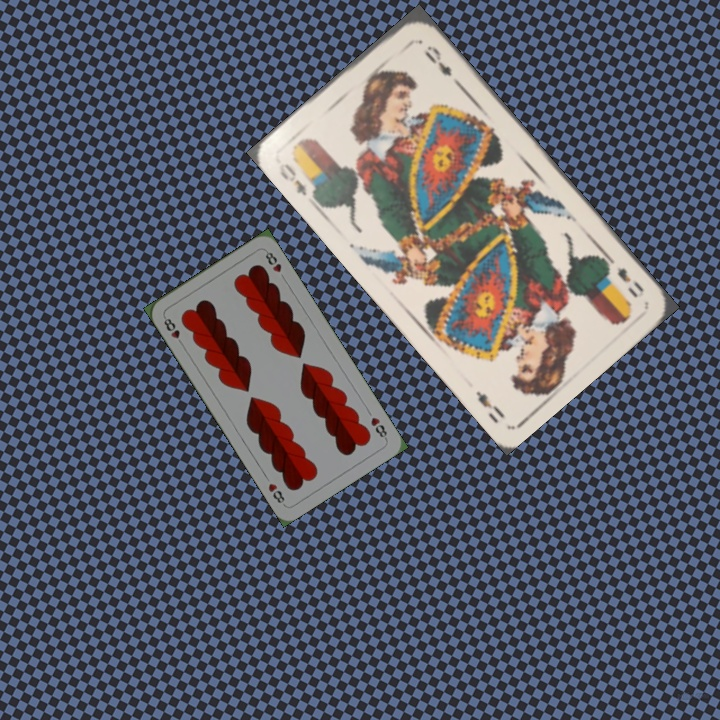EO: (602, 254, 647, 300), (274, 159, 310, 199)
H8: (160, 312, 186, 349), (367, 413, 390, 442)
